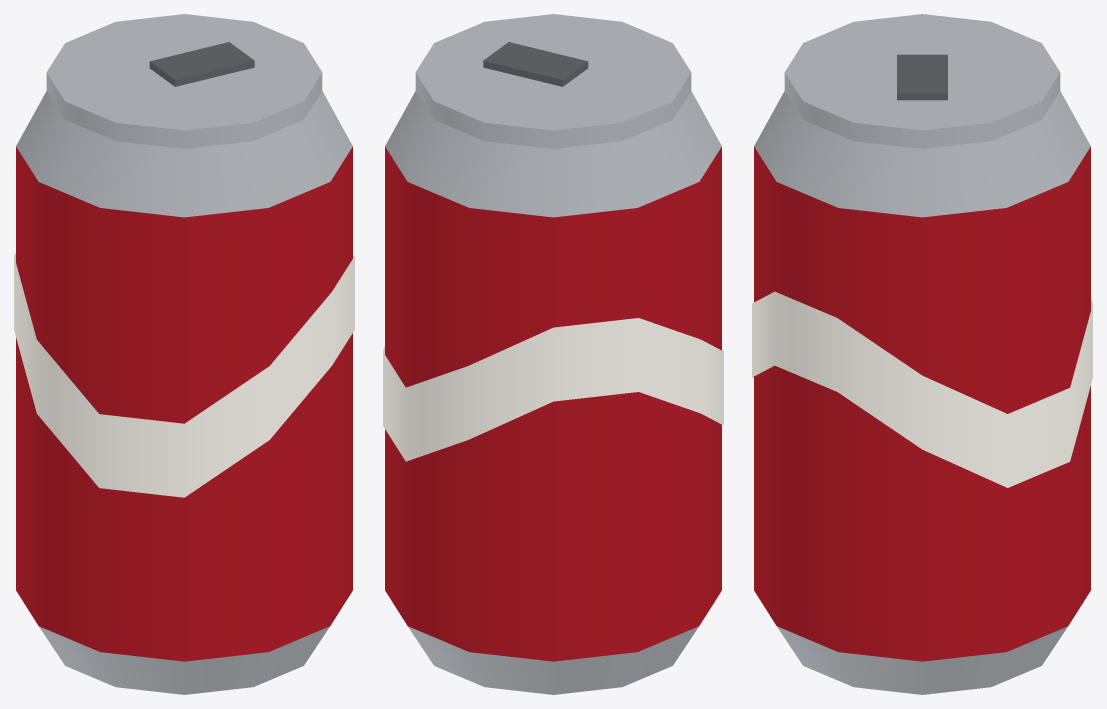
The model's file is cola.glb.
3 views of the same model, side by side, from view 1: azimuth 30°, elevation 25°; view 2: azimuth 150°, elevation 25°; view 3: azimuth 270°, elevation 25° (orthographic).
Parts seen in each view (by area): view 1: cola_m1, cola_m0, cola_m2, cola_m3; view 2: cola_m1, cola_m0, cola_m2, cola_m3; view 3: cola_m1, cola_m0, cola_m2, cola_m3.
Boxes of the visible parts, x1,y1,x2,y2 form: cola_m1: [16, 147, 352, 661]; cola_m0: [16, 14, 352, 694]; cola_m2: [14, 253, 354, 497]; cola_m3: [149, 42, 254, 86]; cola_m1: [385, 147, 721, 661]; cola_m0: [385, 14, 721, 694]; cola_m2: [383, 318, 723, 461]; cola_m3: [483, 42, 588, 86]; cola_m1: [754, 147, 1090, 661]; cola_m0: [754, 14, 1090, 694]; cola_m2: [752, 291, 1092, 487]; cola_m3: [897, 54, 947, 100].
Bounding box in the file's own units: 0.0668 × 0.1235 × 0.0668.
